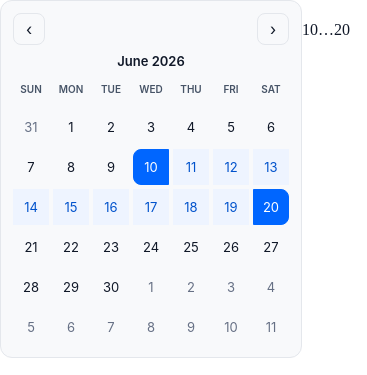
Test: DateRangePicker › a third click starts a new range
Click the 1st cell "5": (231, 127) [213,109,249,145]
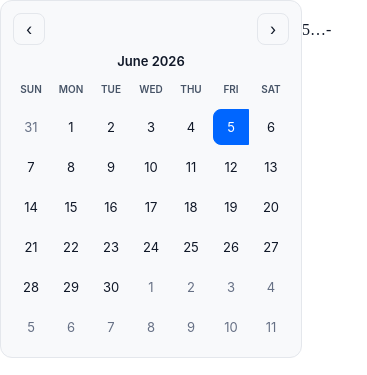
Expected: the text with test id "state" reads "5…-", [302,21,331,38]
